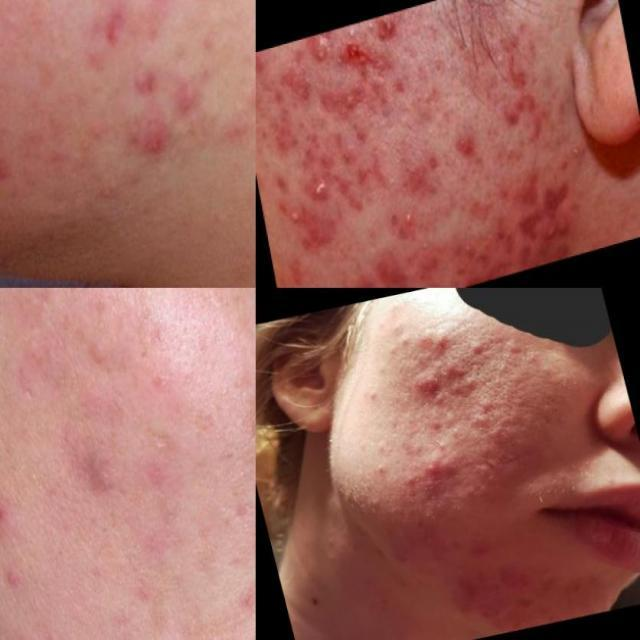Pimples: (70, 421, 126, 551), (86, 0, 136, 60), (168, 71, 210, 123), (124, 50, 164, 104), (496, 50, 534, 100), (137, 118, 174, 168), (340, 33, 376, 83), (436, 370, 488, 403), (413, 320, 455, 360), (536, 208, 574, 252), (304, 34, 338, 80), (372, 13, 407, 50), (496, 128, 524, 174), (392, 202, 423, 242), (418, 448, 456, 480), (434, 352, 472, 384), (0, 140, 23, 192), (306, 167, 336, 206), (411, 366, 443, 402), (240, 507, 256, 576), (493, 562, 524, 596), (563, 138, 588, 174), (470, 453, 500, 483), (282, 204, 306, 239), (414, 233, 438, 266), (415, 527, 441, 556), (474, 600, 500, 626), (504, 334, 532, 358), (467, 410, 495, 432), (462, 337, 488, 360), (242, 76, 256, 114), (478, 394, 494, 411)
